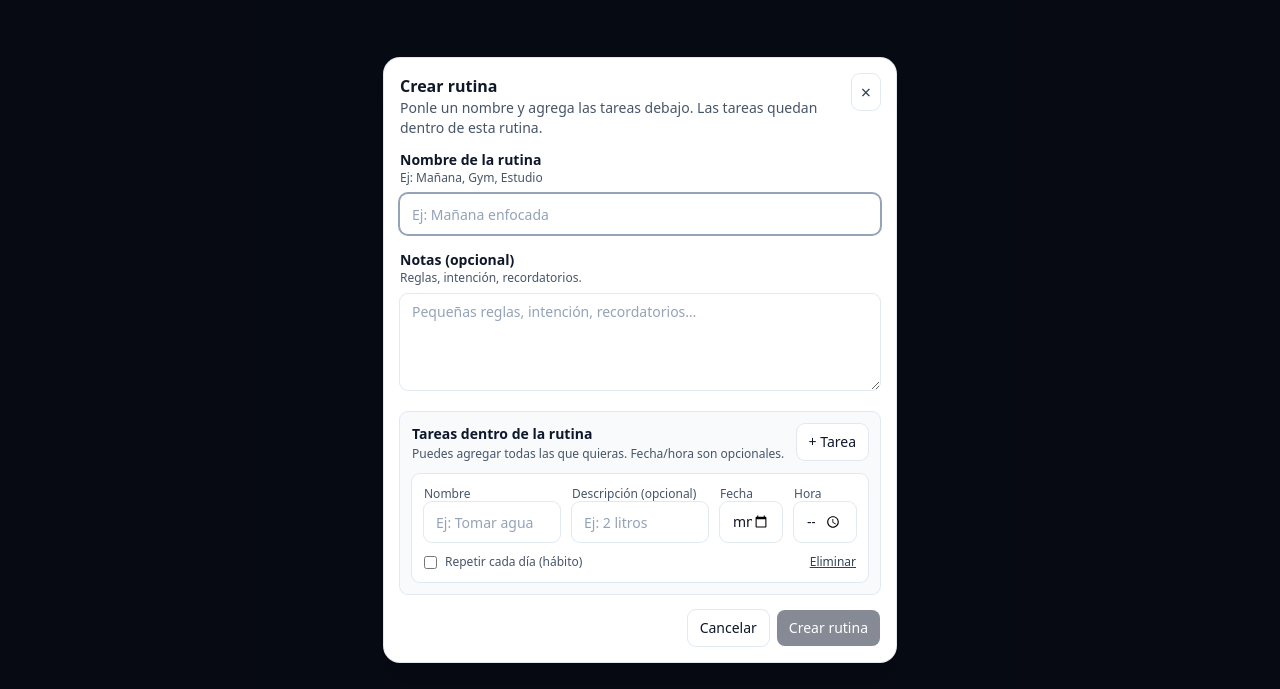
Test case: RoutineWizardModal › removes a non-first task row when Eliminar is clicked
Click the button "+ Tarea": coordinates (832, 442) [797,424,868,460]
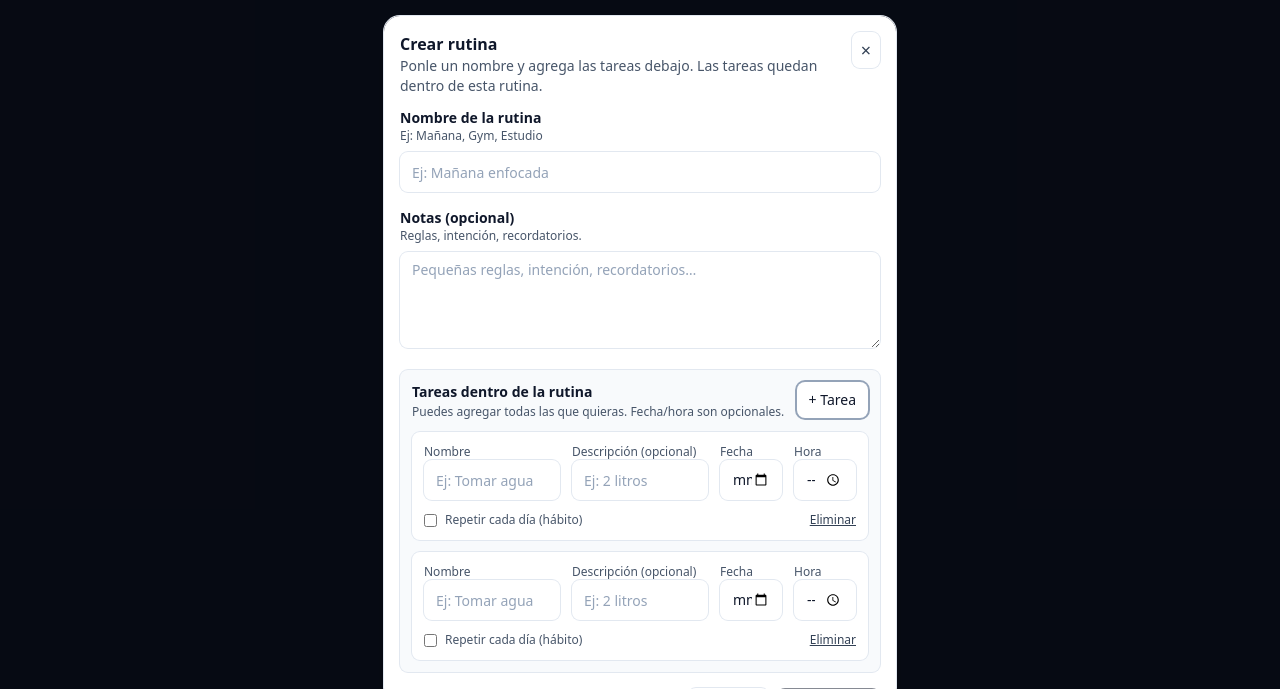
Expected: the number of fields with placeholder "Ej: Tomar agua" is 2, [424,460,560,500]; [424,580,560,620]
Click the button with aria-label "Eliminar tarea 2": coordinates (833, 640) [810,632,856,648]
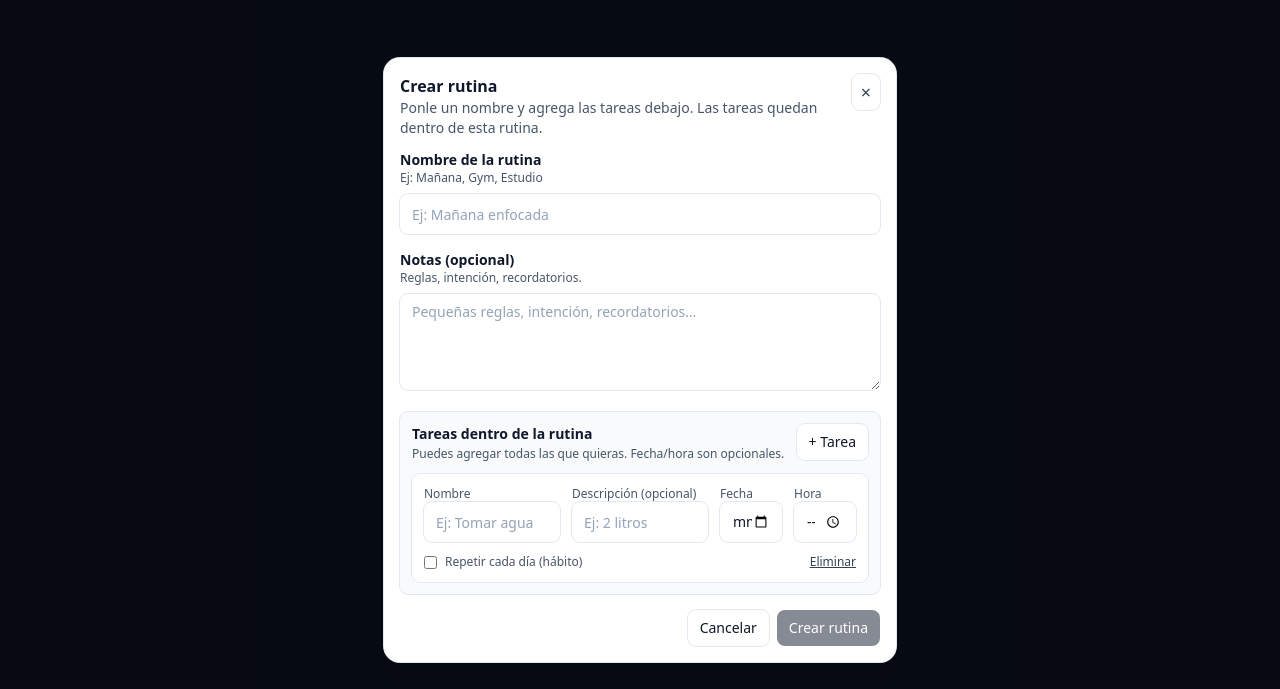
Expected: the number of fields with placeholder "Ej: Tomar agua" is 1, [424,502,560,542]
